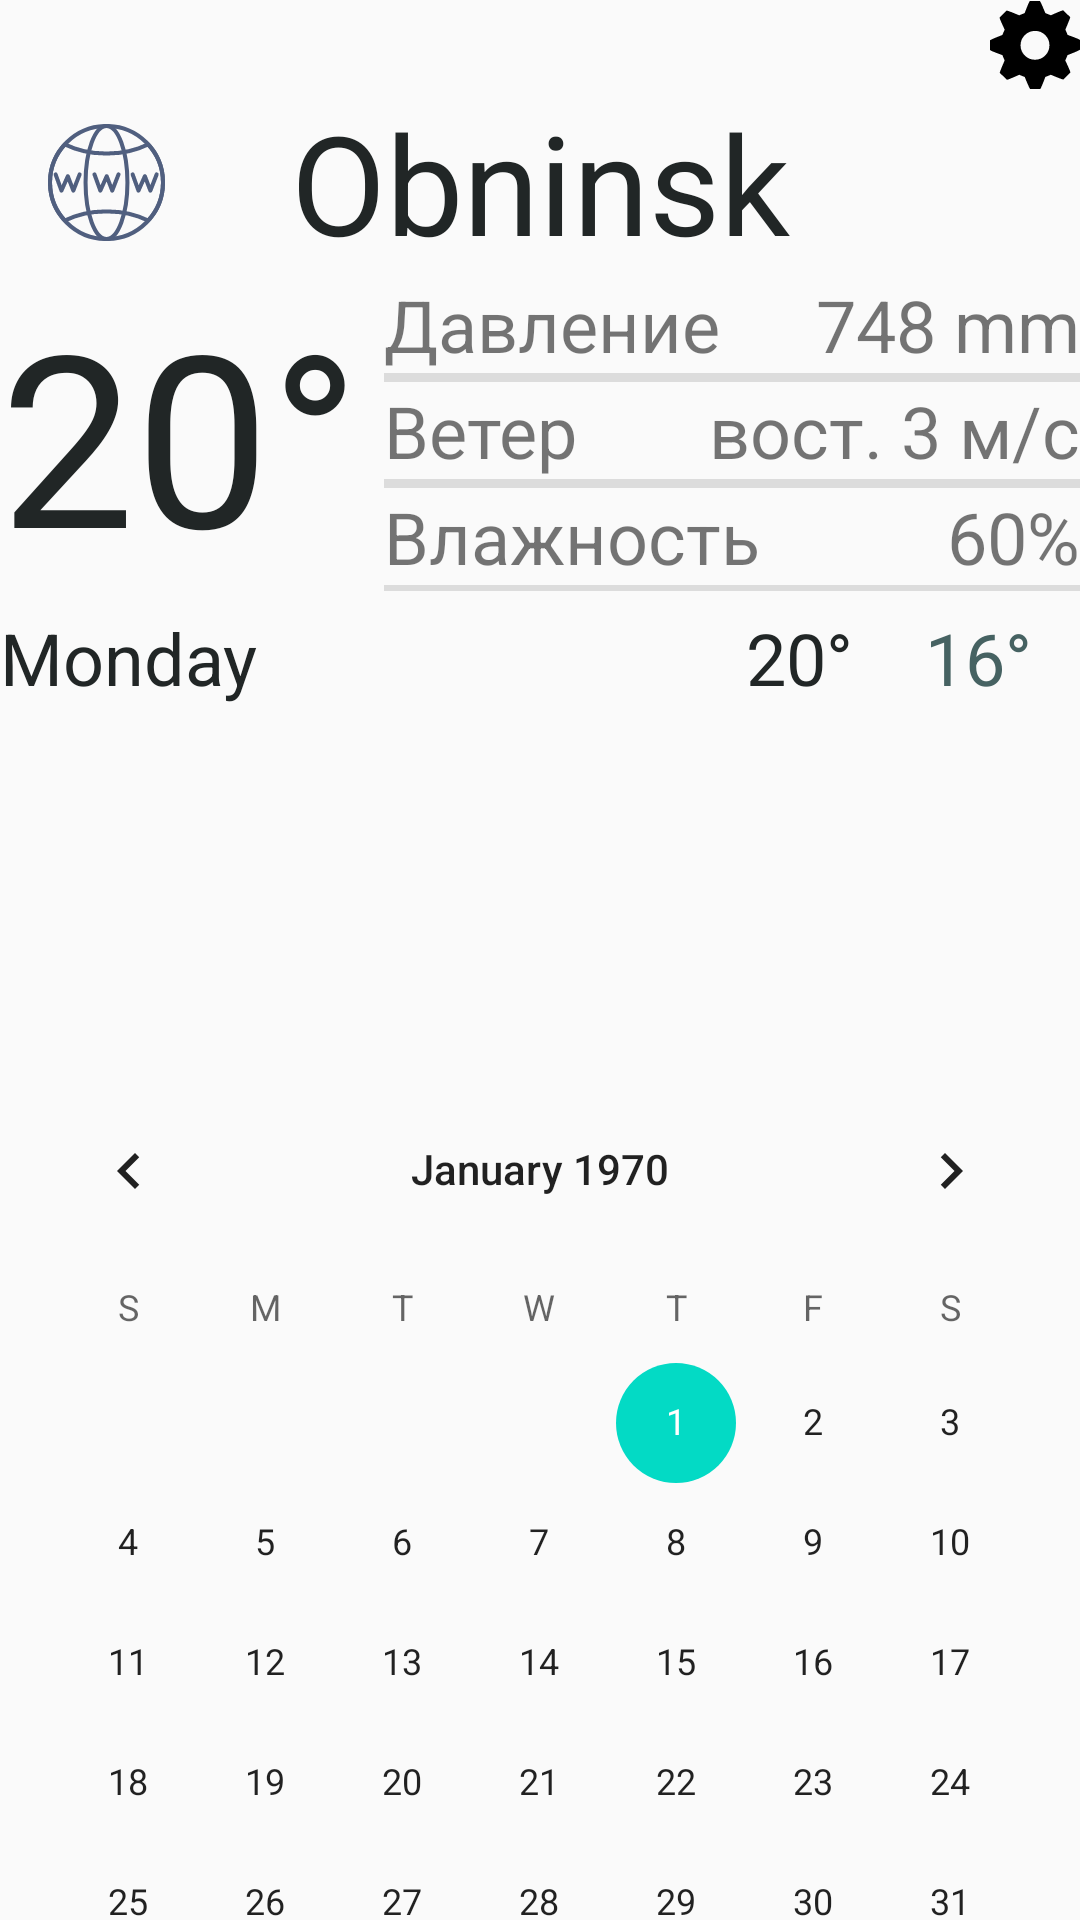

Icons on this 1080 × 1920 Android screen, each with the point to tap as point (x, y):
setings: point (1035, 45)
